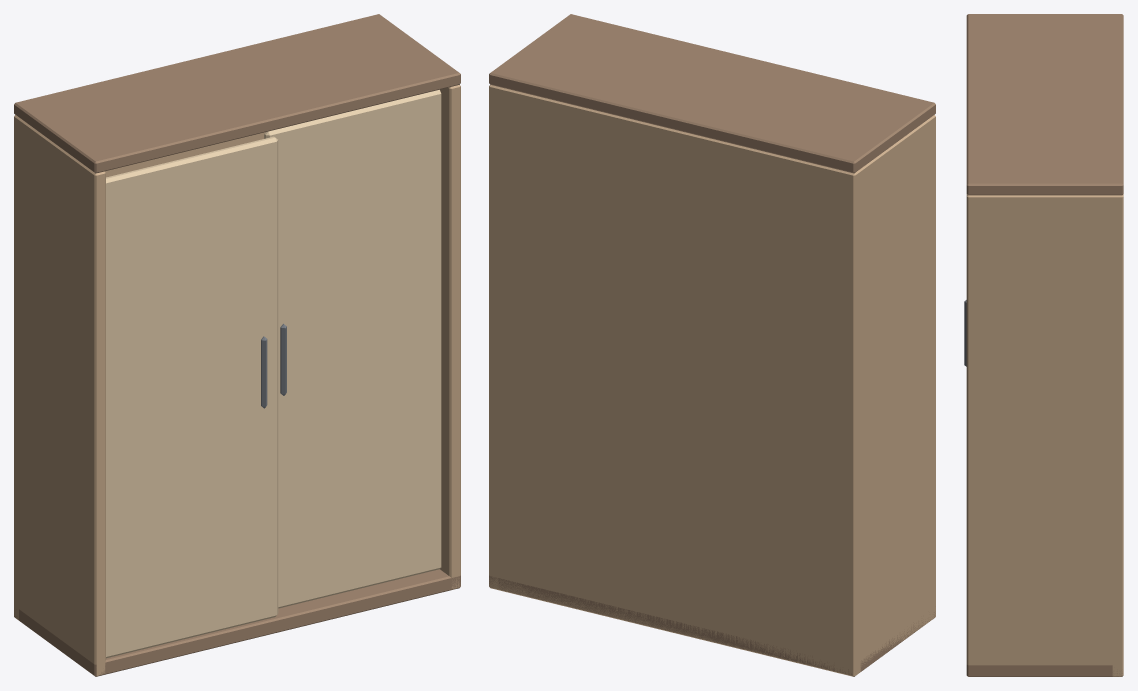
File: SlidingDoorWardrobe.glb
3 renders of one model, left to right at view 1: azimuth 30°, elevation 25°; view 2: azimuth 150°, elevation 25°; view 3: azimuth 270°, elevation 25°, orthographic. The views are drawn at different scales.
Parts seen in each view (by area): view 1: Wardrobe_Carcass, Wardrobe_DoorFront, Wardrobe_DoorBack; view 2: Wardrobe_Carcass; view 3: Wardrobe_Carcass.
Part boxes in pixels (x1=…): Wardrobe_Carcass: x1=14, y1=14, x2=460, y2=676; Wardrobe_DoorFront: x1=106, y1=136, x2=278, y2=658; Wardrobe_DoorBack: x1=264, y1=89, x2=441, y2=608; Wardrobe_Carcass: x1=489, y1=14, x2=935, y2=676; Wardrobe_Carcass: x1=966, y1=14, x2=1123, y2=676.
Bounding box in the file's own units: 1.6 × 2.15 × 0.63.
